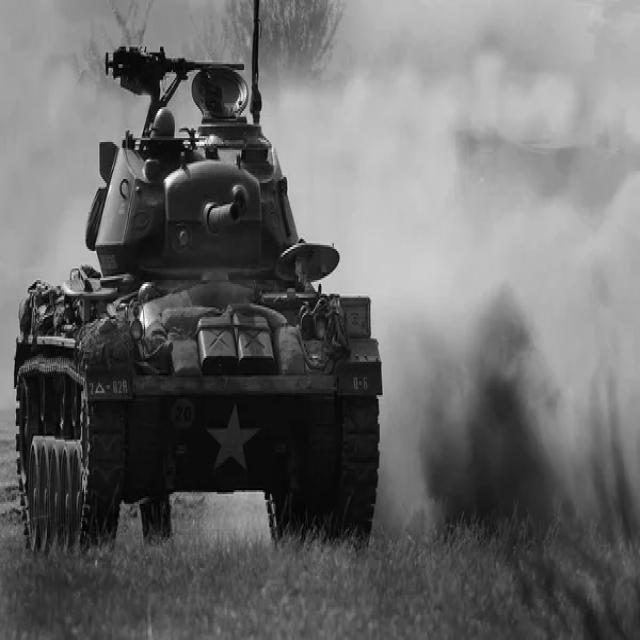Tank: (10, 36, 388, 563)
